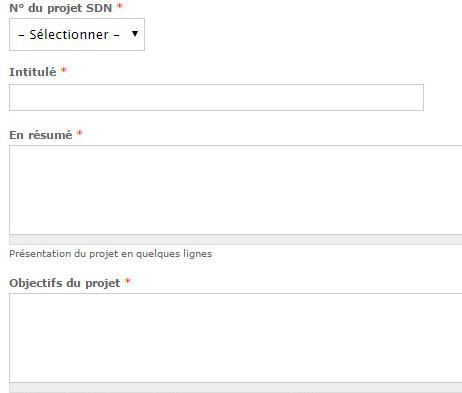field: (7, 142, 462, 239), (5, 292, 462, 386), (8, 81, 425, 113), (6, 16, 148, 52)
field_with_label: (4, 128, 462, 241), (3, 277, 462, 387), (5, 66, 426, 115), (3, 1, 149, 53)
